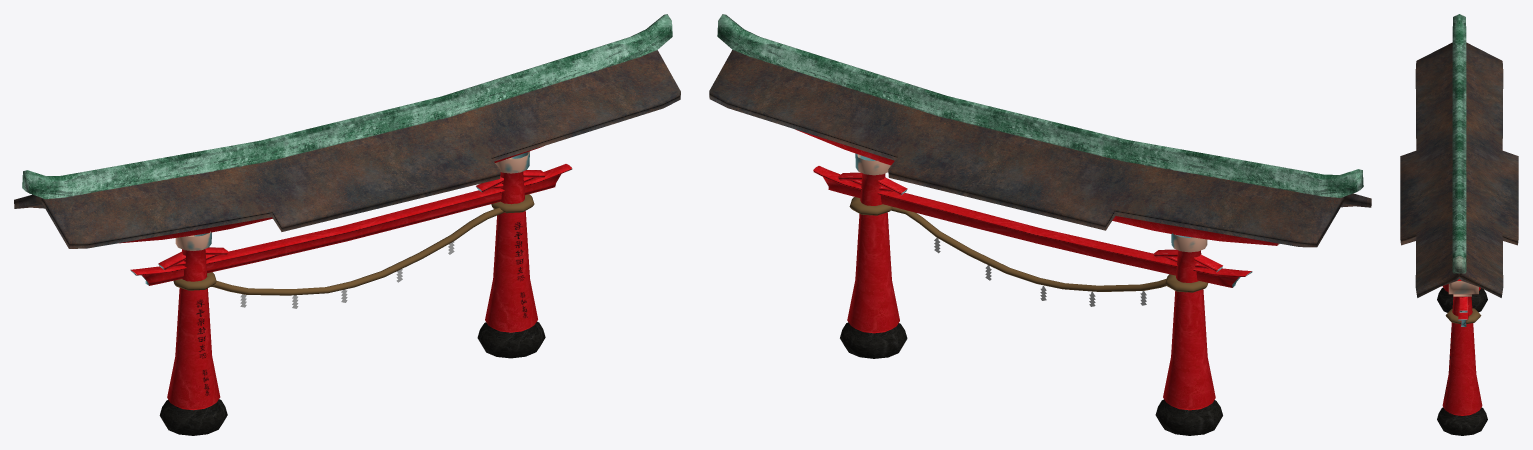
Rendered from Torii_FinishLine.fbx.
3 renders of one model, left to right at view 1: azimuth 30°, elevation 25°; view 2: azimuth 150°, elevation 25°; view 3: azimuth 270°, elevation 25°, orthographic. The views are drawn at different scales.
Visible parts, largest first — view 1: LOW:Mesh; view 2: LOW:Mesh; view 3: LOW:Mesh.
Part boxes in pixels (x1,y1,x2,y2): LOW:Mesh: (14,14,680,435); LOW:Mesh: (709,14,1371,435); LOW:Mesh: (1400,14,1518,435).
Size of the model in its own units: 56.71 by 24.93 by 11.67.
1 material, 1 textured.
